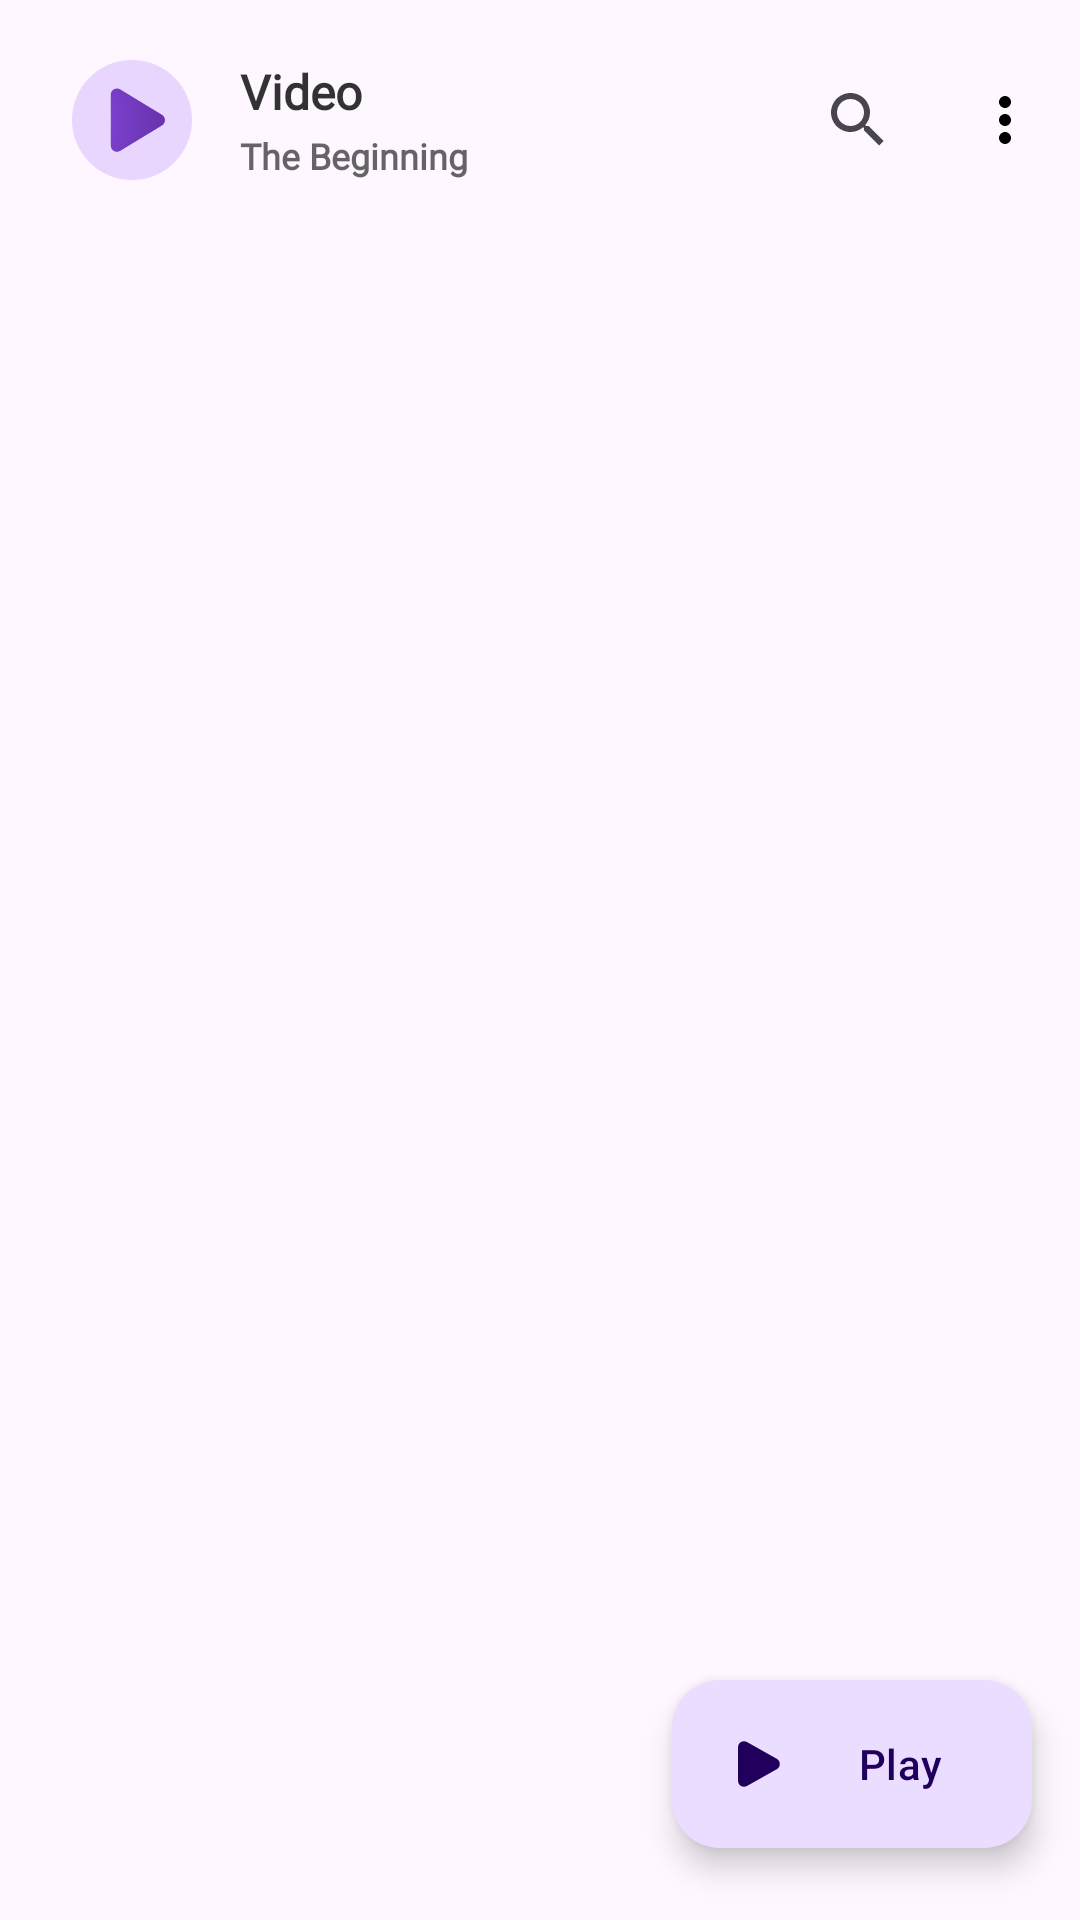

Point at icon controls on the screen. Image size 1080px x 1920px, points as [x,y].
more: [1005,120]
